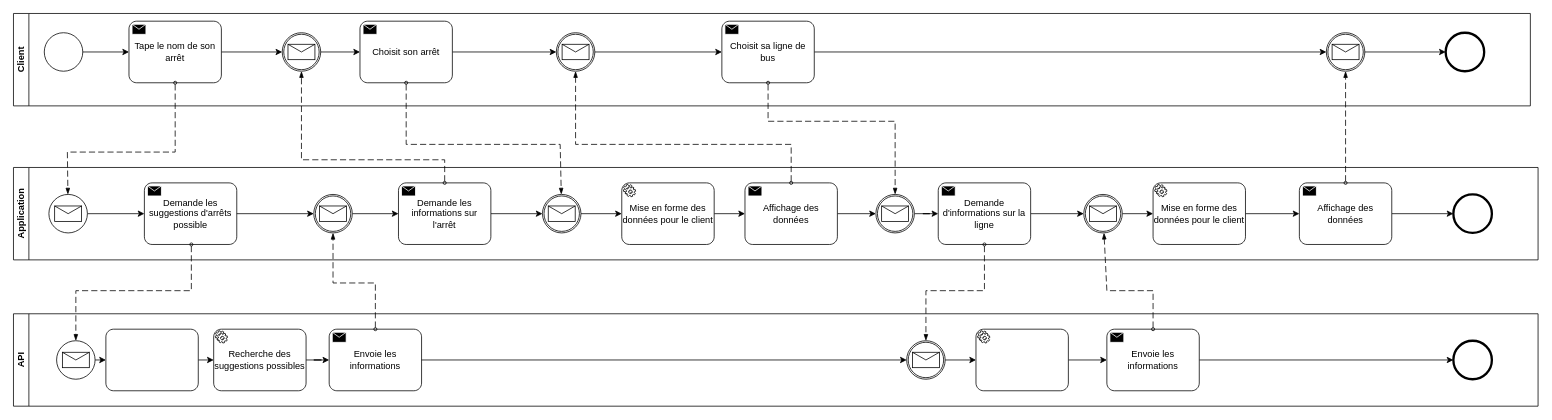
Some shapes in this 1552 by 420 pixel diagram are drawn without their labels. The centre of each missing label's shape, as x and y in pixels:
Récupère les information sur la ligne: point (1021, 359)
Récupère les informations de l'arrêt donné: point (151, 359)
